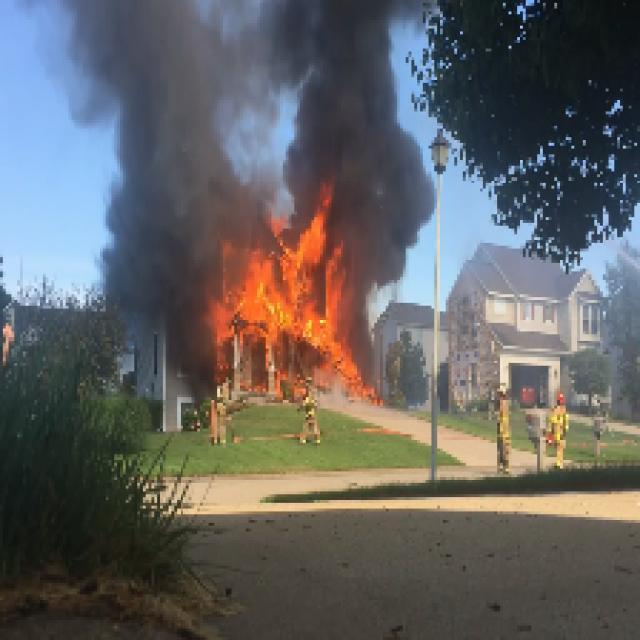Fire: (288, 186, 340, 354), (208, 248, 283, 340)
Smoke: (57, 2, 277, 208), (280, 3, 423, 174), (354, 180, 432, 337), (97, 208, 203, 308)
